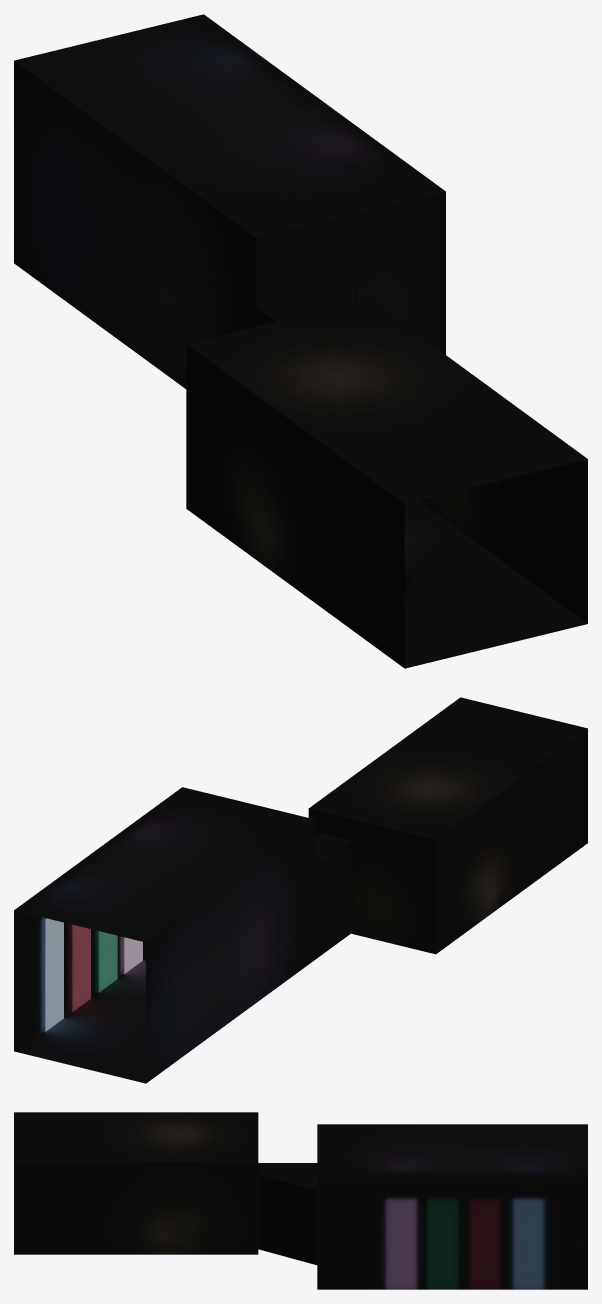
File: stage-test.glb
The picture shows the model from 3 angles, top to bottom: view 1: azimuth 30°, elevation 25°; view 2: azimuth 150°, elevation 25°; view 3: azimuth 270°, elevation 25°; orthographic projection. The views are drawn at different scales.
Parts seen in each view (by area): view 1: Cube.036; view 2: Cube.036; view 3: Cube.036.
Boxes of the visible parts, box(x1,y1,x2,y2) form: Cube.036: box(14, 14, 587, 668); Cube.036: box(14, 697, 587, 1083); Cube.036: box(14, 1112, 587, 1289).
Size of the model in its own units: 63.18 by 39.58 by 180.
11 materials, 11 textured.
